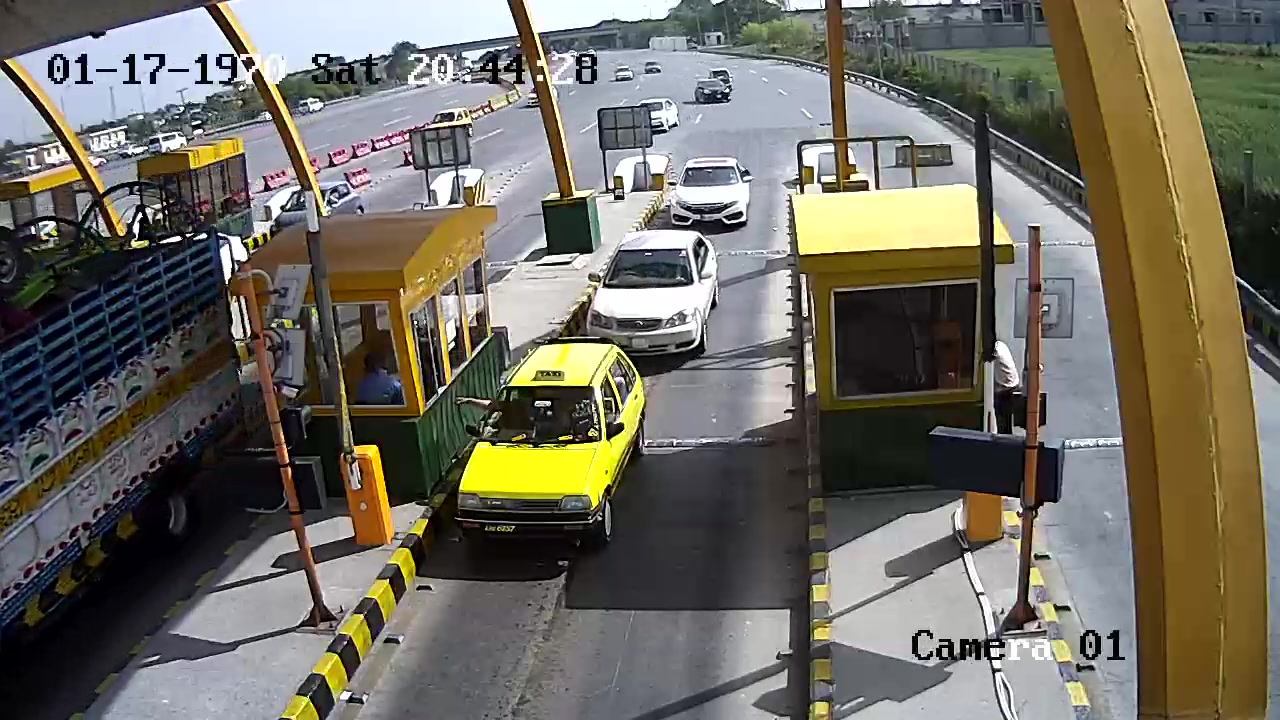F1: (451, 329, 649, 545)
